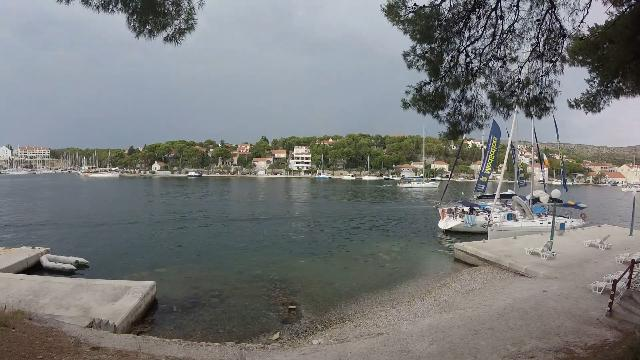Sailboat: (393, 177, 442, 191)
